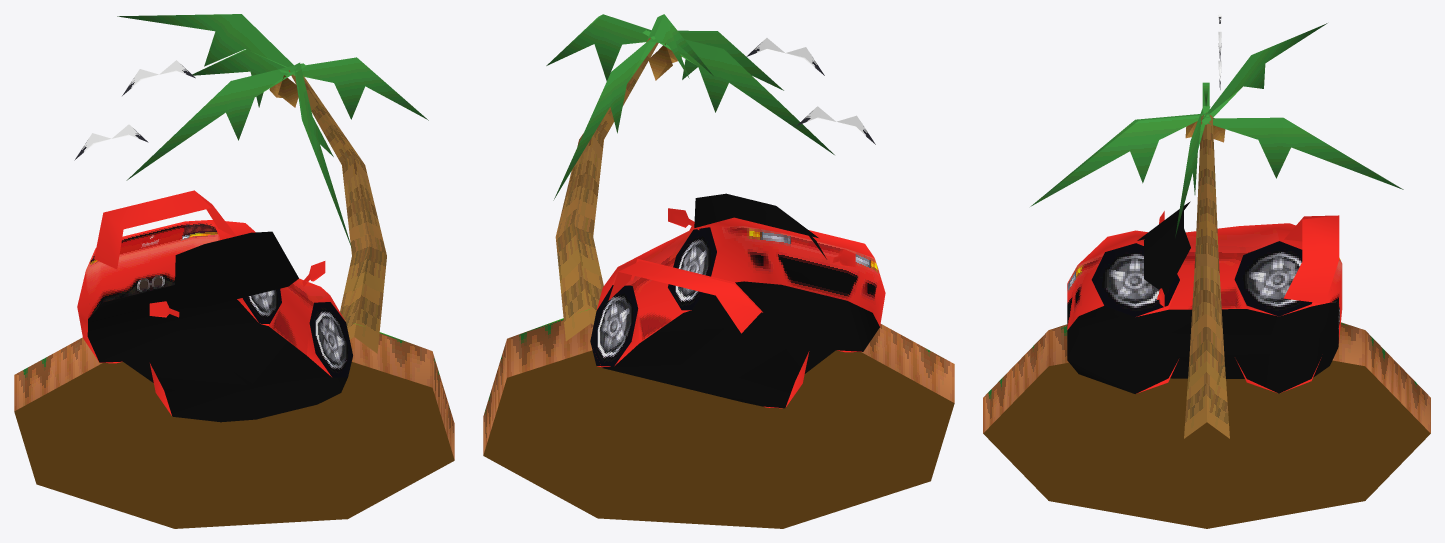
The model's file is ps2_save-icons_segaages2500seriesvol13-outrun.glb.
The picture shows the model from 3 angles, left to right: view 1: azimuth 30°, elevation 25°; view 2: azimuth 150°, elevation 25°; view 3: azimuth 270°, elevation 25°; orthographic projection. The views are drawn at different scales.
Parts seen in each view (by area): view 1: icon.ico; view 2: icon.ico; view 3: icon.ico.
Part boxes in pixels (bbox=[...]): icon.ico: bbox=[14, 14, 454, 528]; icon.ico: bbox=[483, 14, 954, 528]; icon.ico: bbox=[983, 14, 1430, 528].
Size of the model in its own units: 4.88 by 4.68 by 4.84.
1 material, 1 textured.
